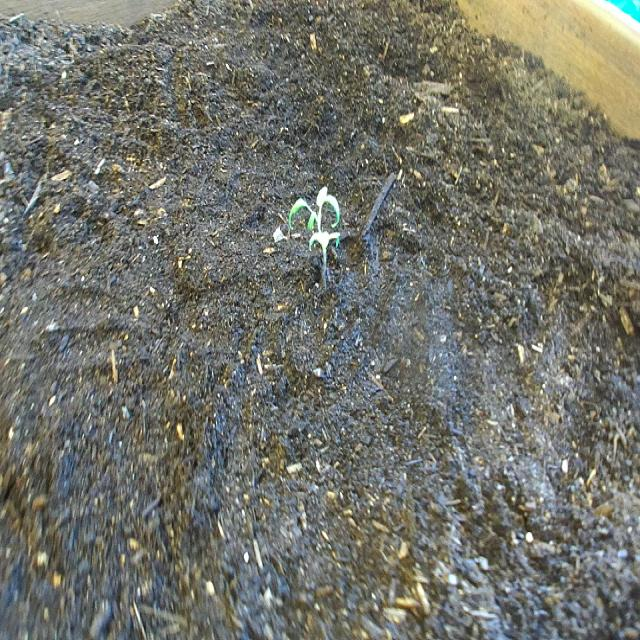Healthy: (282, 171, 355, 278)
